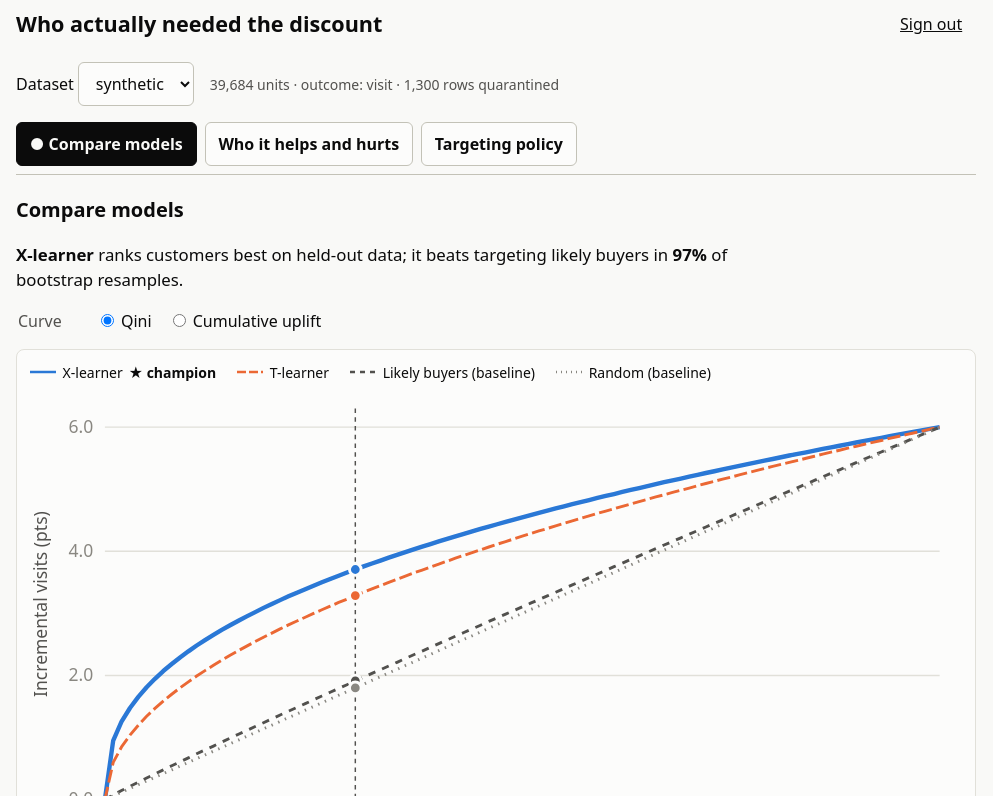
Scenario: building a policy › asks for batch scoring when the champion has no scores
Check: the text "ranks customers best" is shown, box [94,243,402,266]
Click the button "Targeting policy" at (499, 144), box [421,122,577,166]
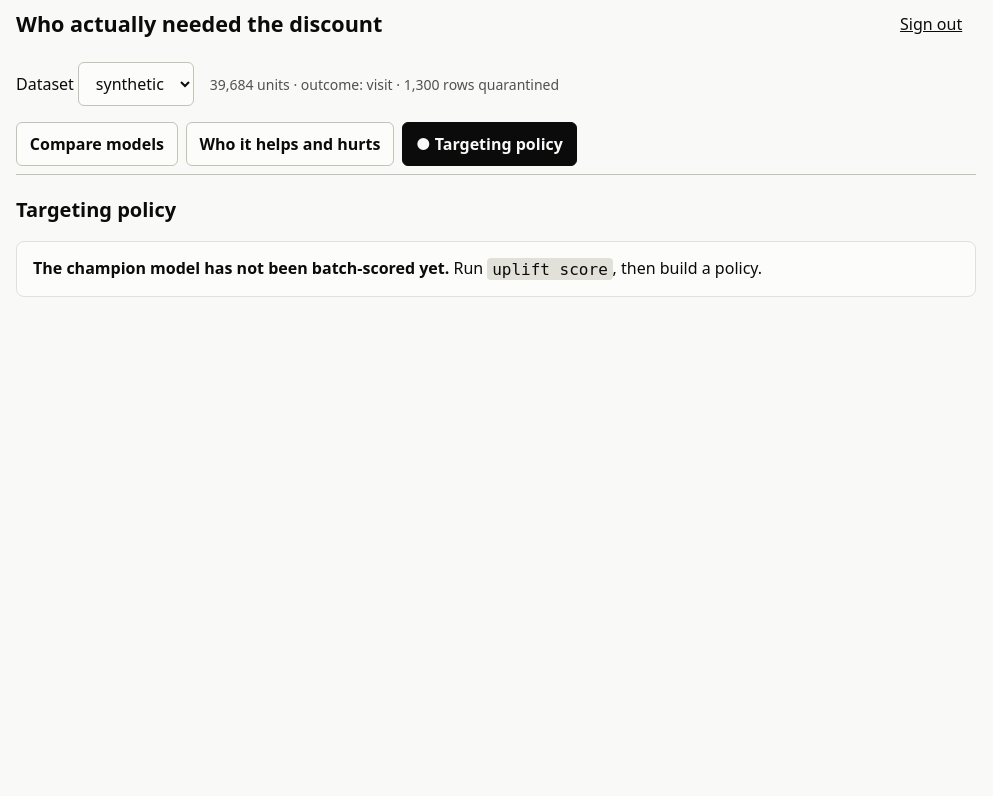
Check: the text "The champion model has not been batch-scored yet." is shown, box [33,257,449,279]
